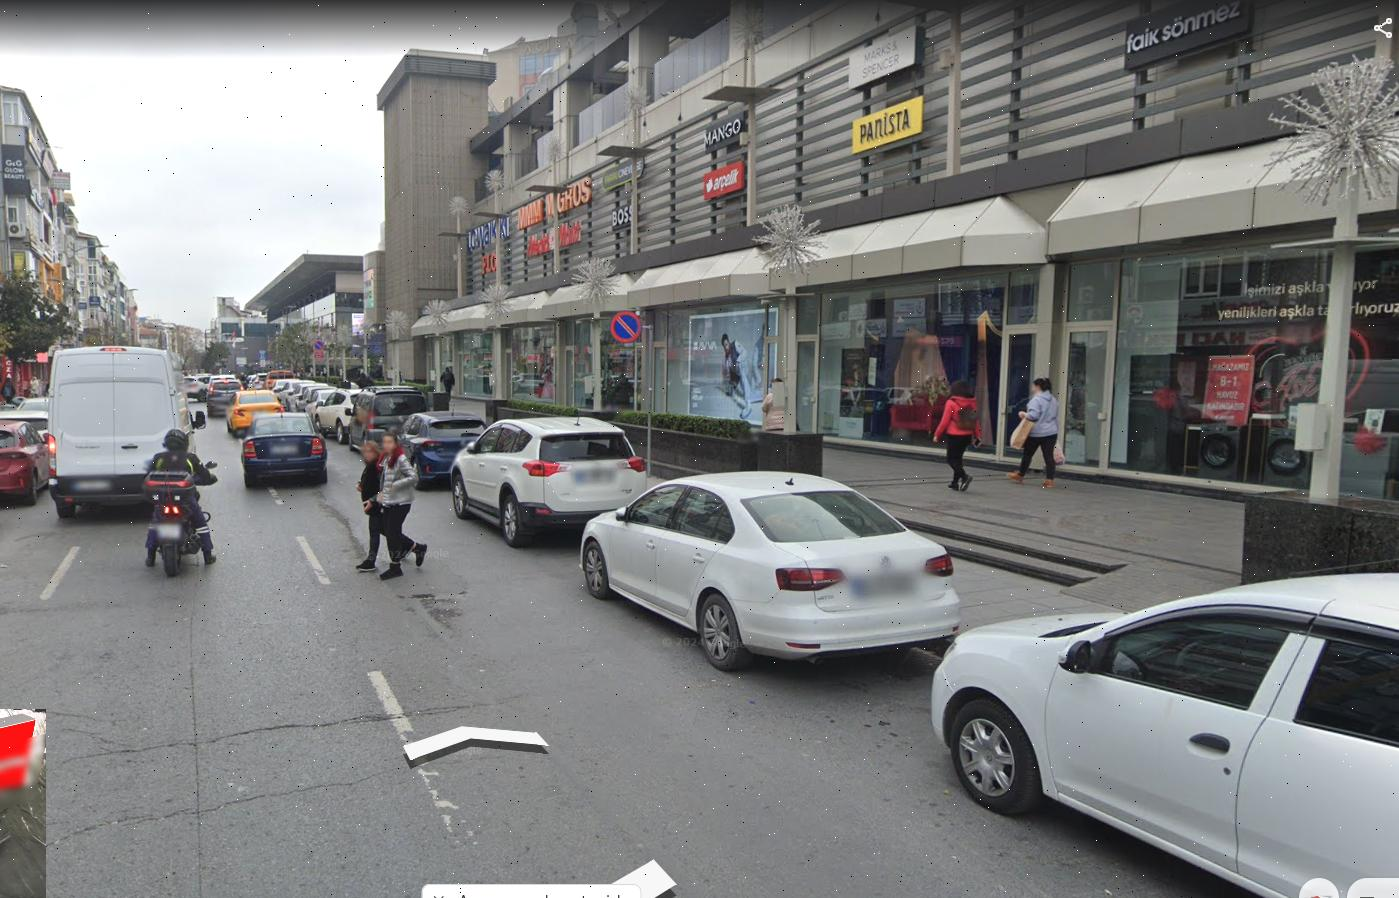nopark: (612, 311, 640, 344)
